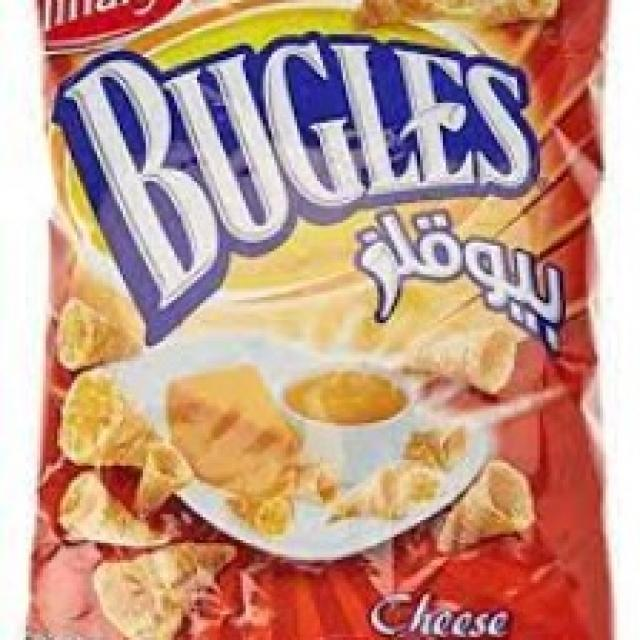plastic: (27, 1, 619, 640)
